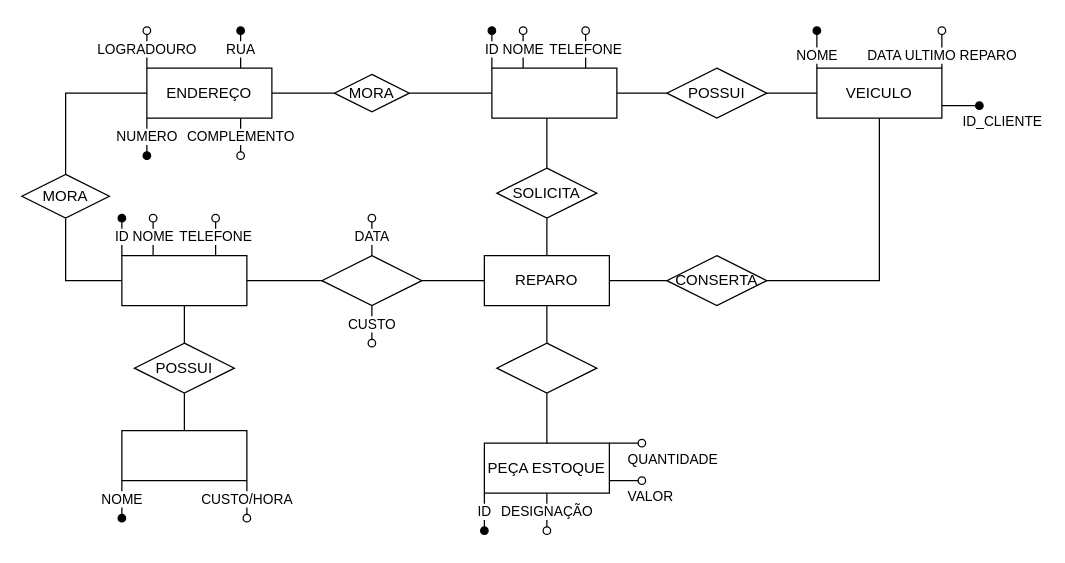
Some shapes in this 1065 by 563 pixel diagram are drawn without their labels. Here are the shapes that lost their labels. From the top down, the centre of each, then its label:
At pixel 554 92: "CLIENTE".
At pixel 184 280: "FUNCIONARIO".
At pixel 371 280: "REALIZA".
At pixel 546 367: "UTILIZA".
At pixel 184 455: "CATEGORIA PROFISSIONAL".
